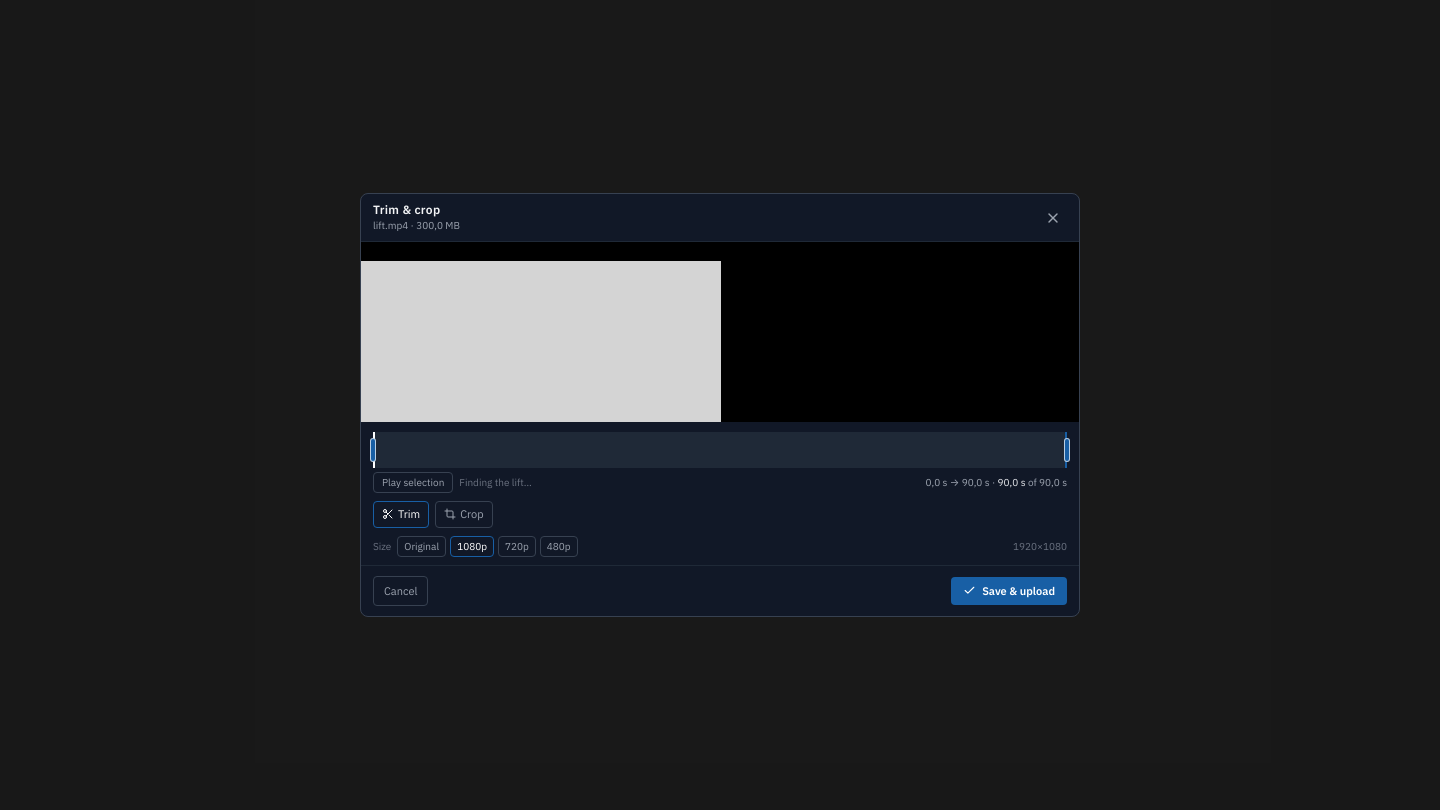
Scenario: ClipEditor › refuses to upload a clip that comes back distorted twice, and says why
What coordinates should you click on to do the following:
click the button "Save & upload"
I would click on:
 (1009, 591)
Its box is [951,576,1067,605].
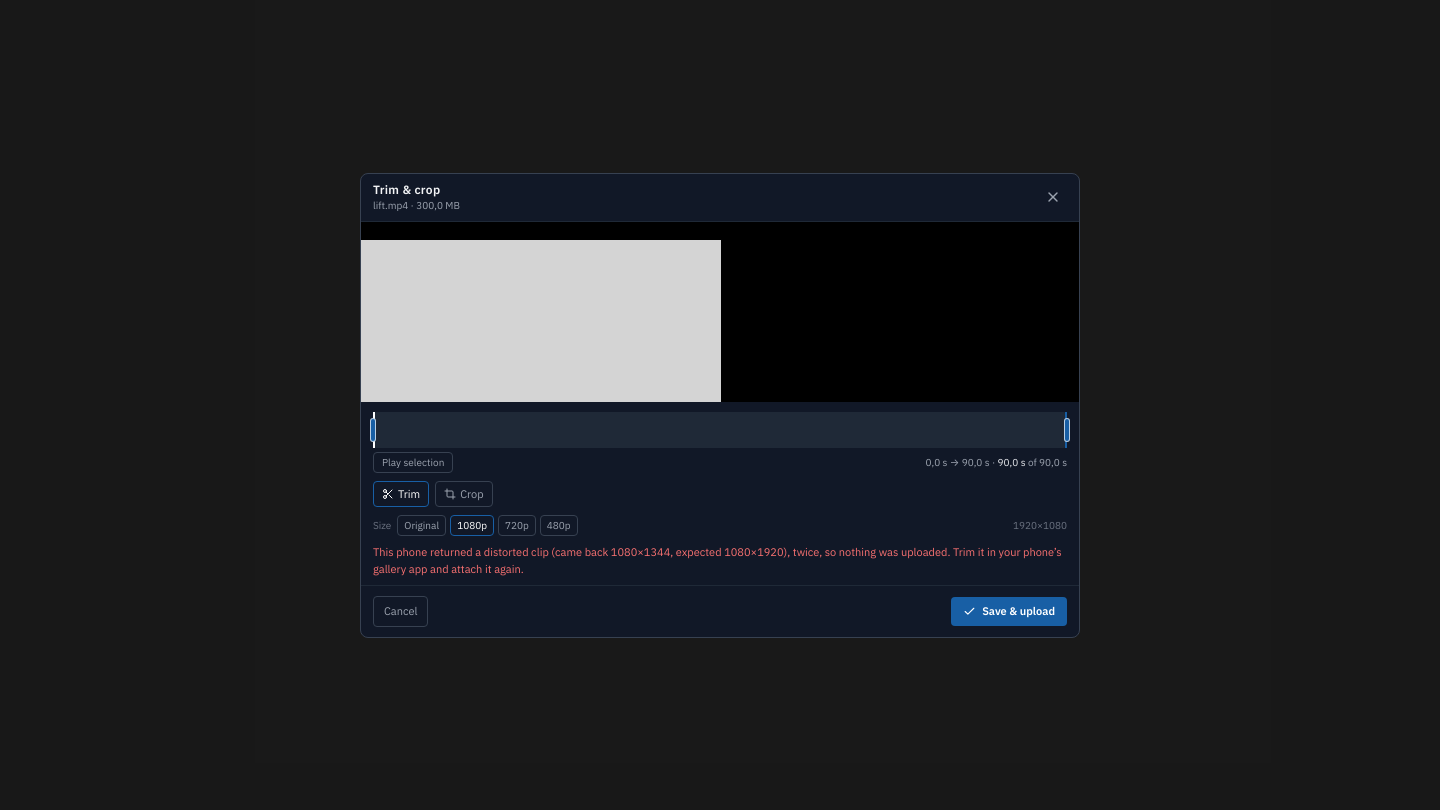
Expected: the button "Save & upload" is enabled, [951,597,1067,626]
Expected: the text "1080×1344, expected 1080×1920" is shown, [373,545,1062,576]
